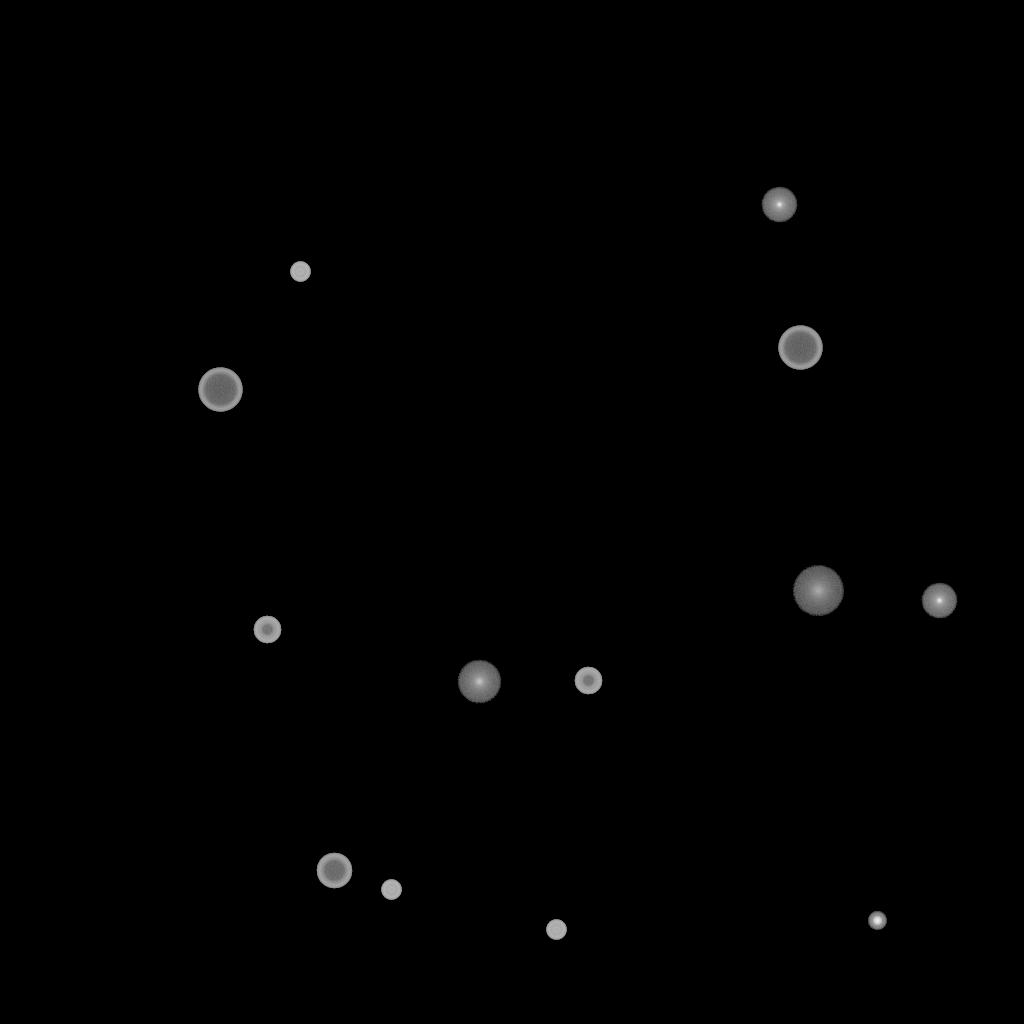depth:-20: (868, 912, 886, 930)
depth:-40: (290, 262, 310, 282), (381, 880, 401, 900), (546, 920, 566, 940)
depth:-50: (574, 667, 602, 695), (253, 616, 281, 644)
depth:-60: (316, 853, 352, 889)
depth:-70: (778, 326, 822, 370), (198, 368, 242, 412)
depth:0: (761, 187, 797, 223), (921, 583, 957, 619)
depth:10: (457, 660, 501, 704)
depth:20: (792, 566, 844, 616)
